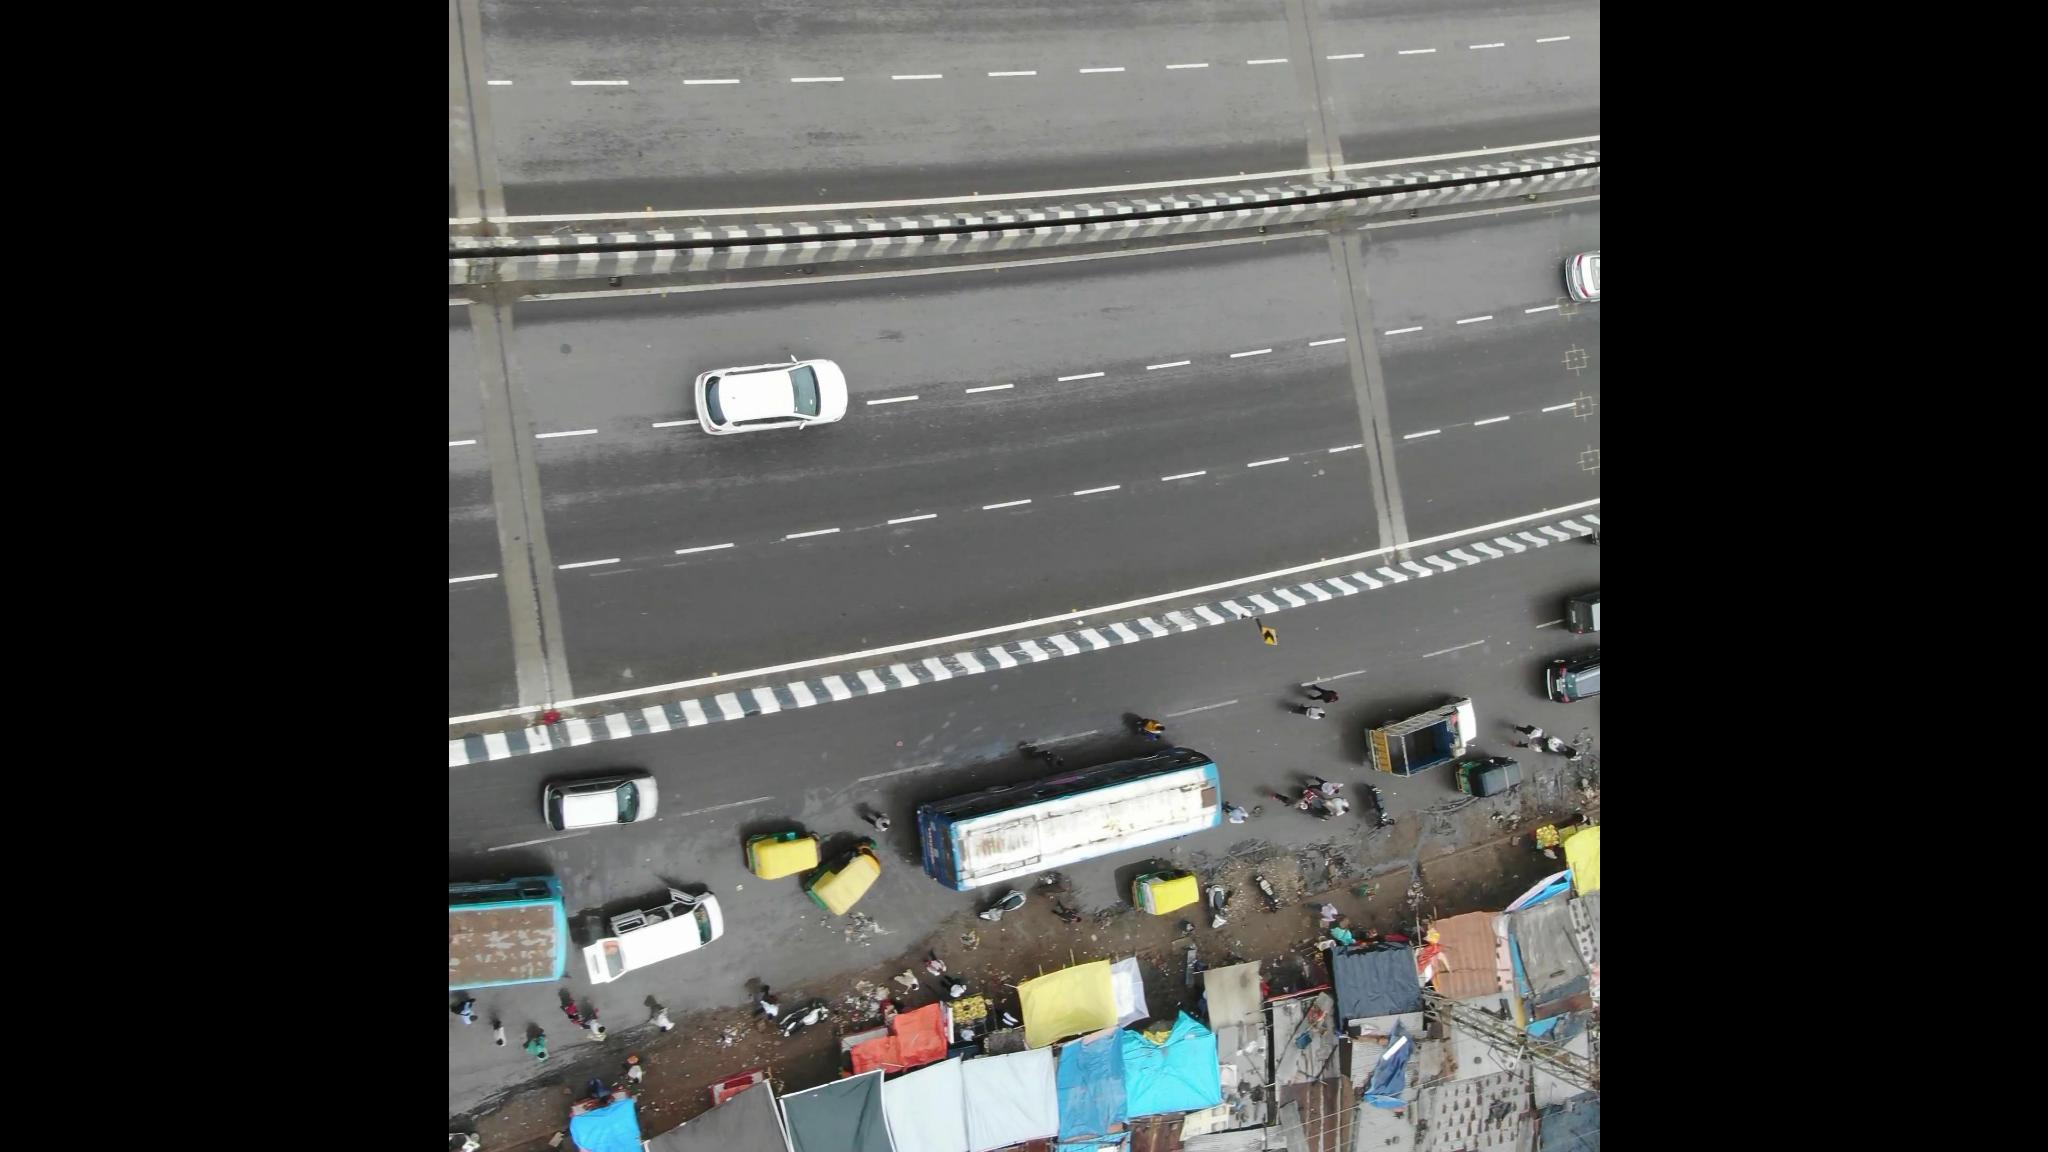Potholes: (921, 691, 1007, 775), (546, 831, 608, 910)
